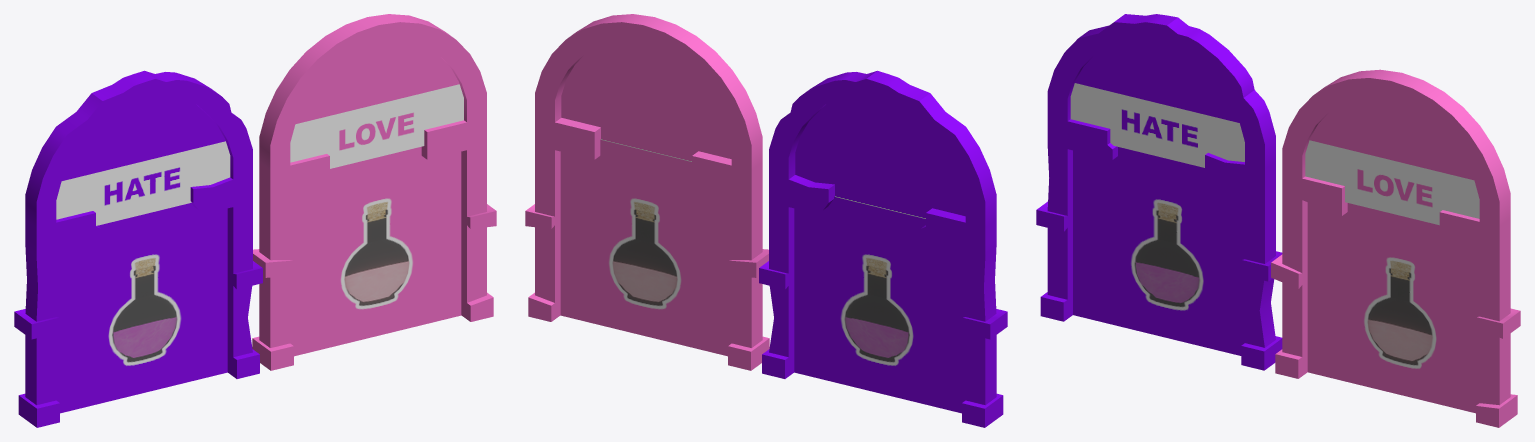
The model's file is Door.fbx.
3 renders of one model, left to right at view 1: azimuth 30°, elevation 25°; view 2: azimuth 150°, elevation 25°; view 3: azimuth 330°, elevation 25°, orthographic.
Parts seen in each view (by area): view 1: Door-Love, Door-Hate, Plane.001, Plane; view 2: Door-Love, Door-Hate, Plane.001, Plane; view 3: Door-Love, Door-Hate, Plane.001, Plane.
Part boxes in pixels (<box>): Door-Love: <box>252,14,496,370</box>; Door-Hate: <box>14,70,262,427</box>; Plane.001: <box>290,146,461,356</box>; Plane: <box>56,203,227,413</box>; Door-Love: <box>525,14,769,370</box>; Door-Hate: <box>759,70,1007,427</box>; Plane.001: <box>560,139,731,356</box>; Plane: <box>794,196,965,413</box>; Door-Love: <box>1271,69,1520,427</box>; Door-Hate: <box>1036,14,1282,370</box>; Plane.001: <box>1307,202,1479,413</box>; Plane: <box>1073,147,1244,355</box>.
Size of the model in its own units: 333 by 217 by 22.95.
